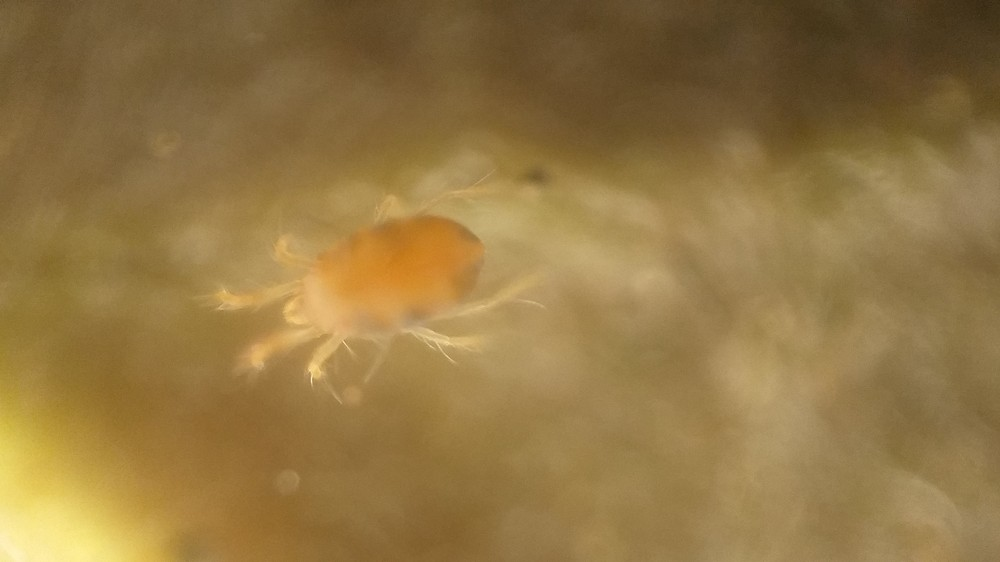Aracnido Rojo: (206, 159, 558, 413)
